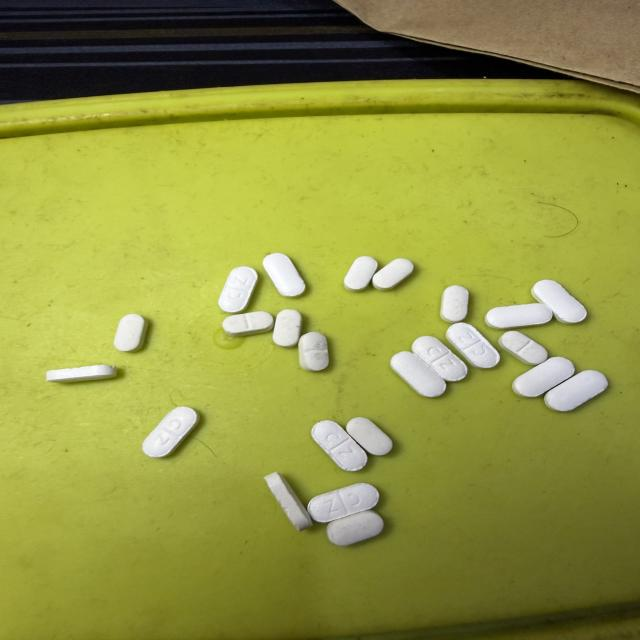pill: (143, 407, 199, 457), (312, 421, 367, 471), (308, 484, 379, 522), (265, 473, 312, 530), (545, 370, 608, 411), (391, 352, 446, 397), (513, 357, 574, 397), (412, 337, 467, 381), (446, 323, 499, 368), (532, 280, 586, 323), (327, 510, 383, 546), (263, 254, 305, 297), (219, 267, 257, 313), (346, 418, 392, 455), (485, 304, 552, 329), (499, 331, 547, 364), (372, 259, 413, 290), (114, 314, 147, 351), (223, 312, 273, 336), (46, 365, 116, 382), (299, 332, 329, 371), (344, 257, 377, 291), (273, 310, 302, 347), (441, 286, 468, 323)
